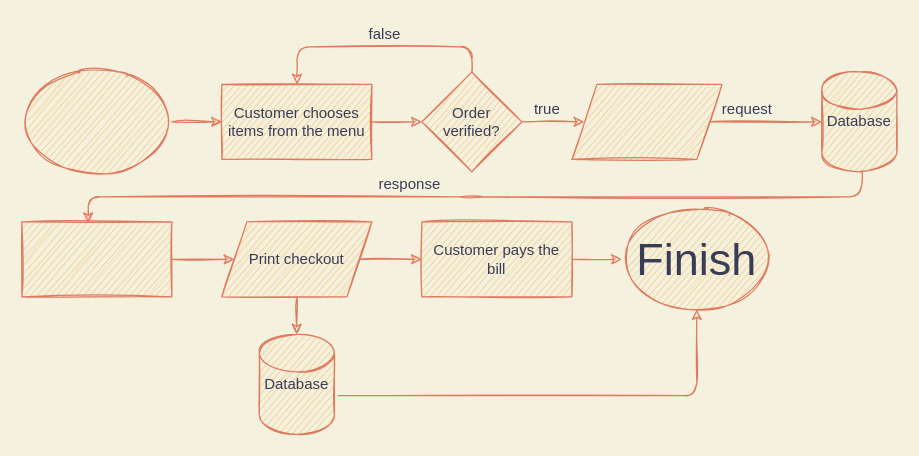
Some shapes in this 919 by 456 pixel diagram are drawn without their labels. The shapes that lost their labels are listed below. From the top down, each one's box as (x1, y1, x2, y2) in pixels, then its label:
(21, 71, 172, 172): Start
(571, 83, 722, 159): Cashier inputs items and qty
(21, 221, 172, 297): Program counts total price per item, tax, and sub total
